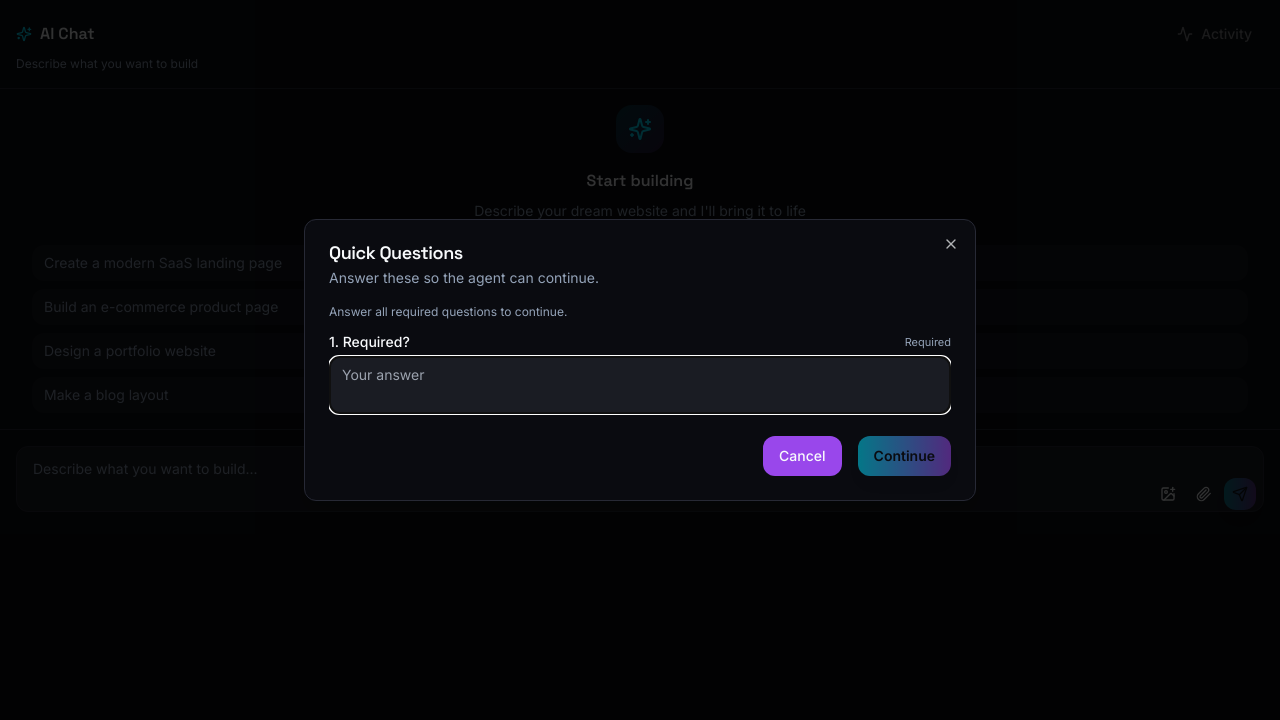
it: ChatPanel › does not allow submission if required questions are unanswered
The width and height of the screenshot is (1280, 720).
expect the button "Continue" is disabled: met, box [858,436,951,476]
Type "Answer" into the text box with placeholder "Your answer".
click(640, 385); type("Answer")  # box [329,356,951,414]
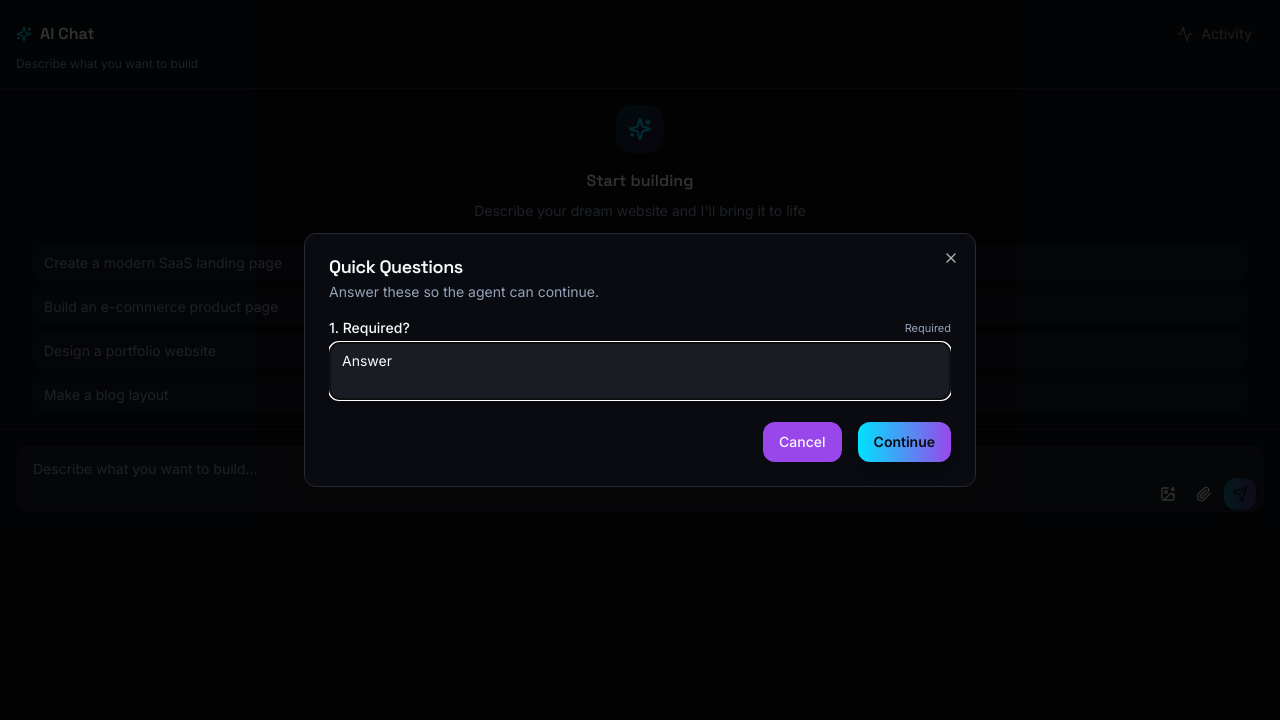
expect the button "Continue" is enabled: met, box [858,422,951,462]
